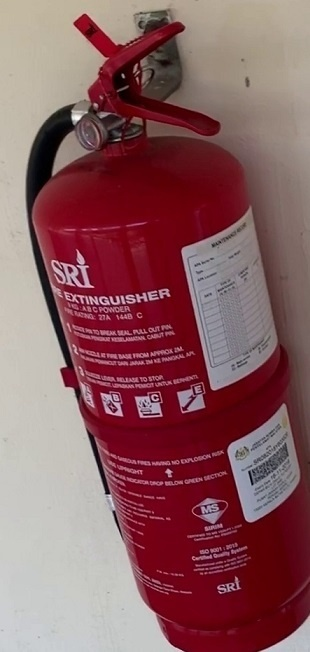fire_extinguisher: (26, 9, 310, 652)
